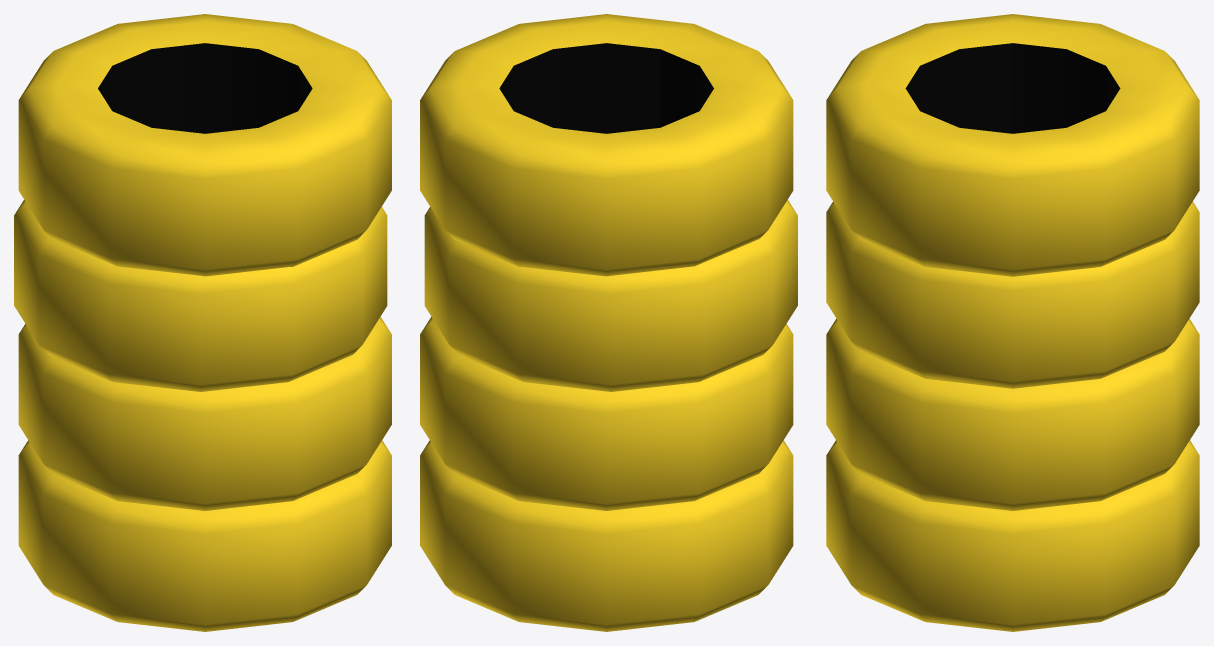
Rendered from prop_tyre_4x1_B.FBX.
The picture shows the model from 3 angles, left to right: view 1: azimuth 30°, elevation 25°; view 2: azimuth 150°, elevation 25°; view 3: azimuth 270°, elevation 25°; orthographic projection.
Parts seen in each view (by area): view 1: prop_tyre_stack_B; view 2: prop_tyre_stack_B; view 3: prop_tyre_stack_B.
Part boxes in pixels (x1=…): prop_tyre_stack_B: x1=14, y1=14, x2=391, y2=631; prop_tyre_stack_B: x1=420, y1=14, x2=797, y2=631; prop_tyre_stack_B: x1=826, y1=14, x2=1199, y2=631.
Size of the model in its own units: 33.62 by 46.94 by 33.16.
Materials: 1 (1 with a texture image).
